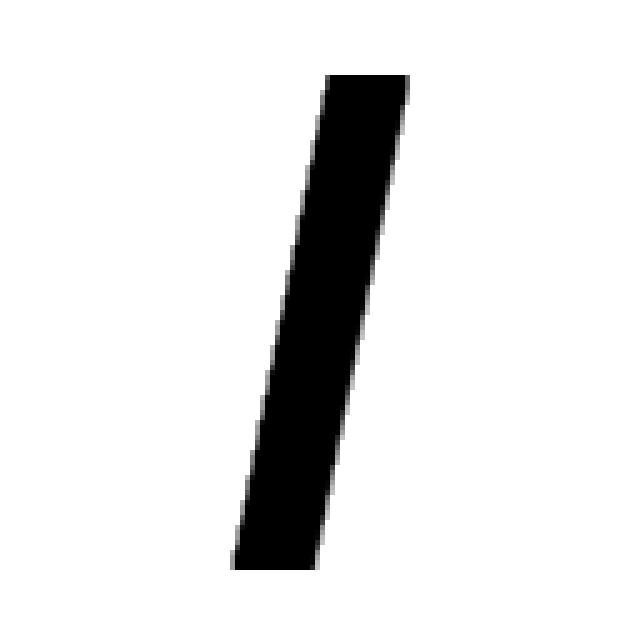I: (230, 75, 410, 575)
